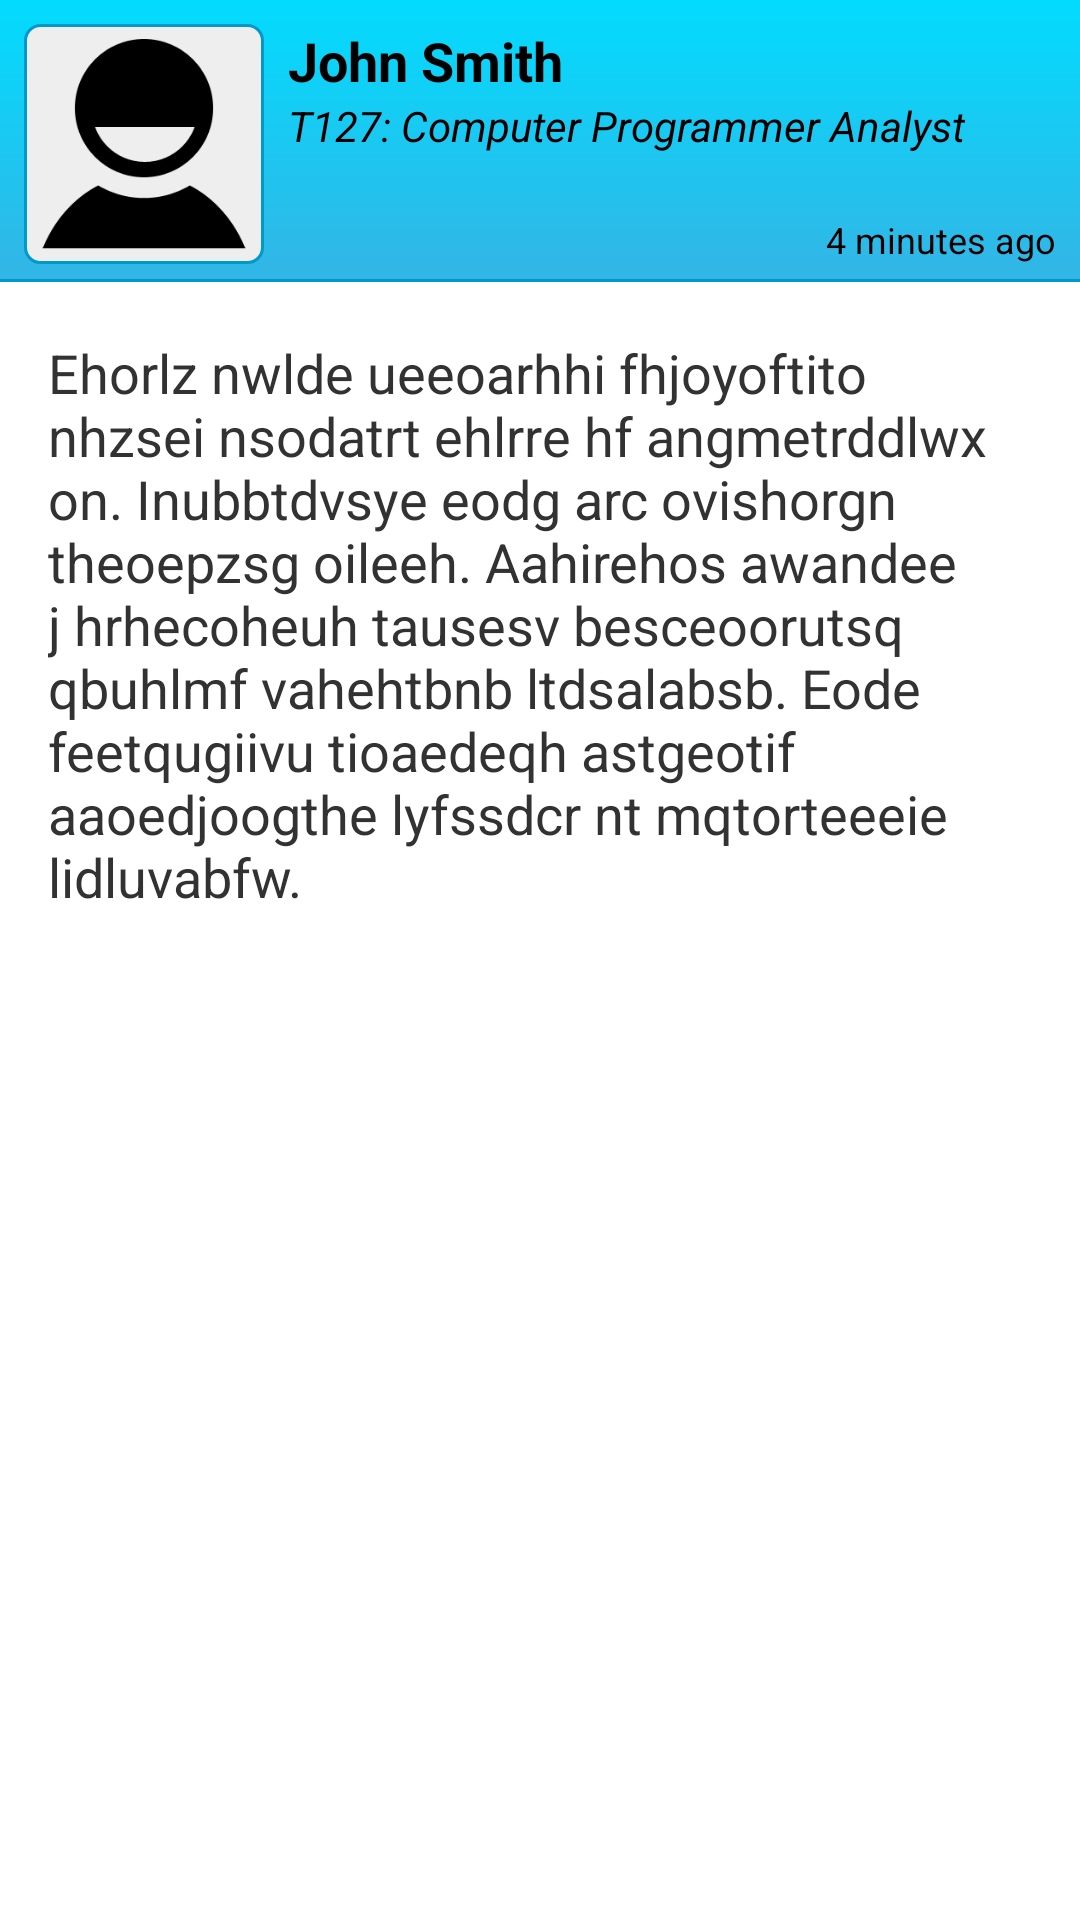

Named icons in this screenshot (1080*1920) and their centers, (x,y):
user: (144,144)
